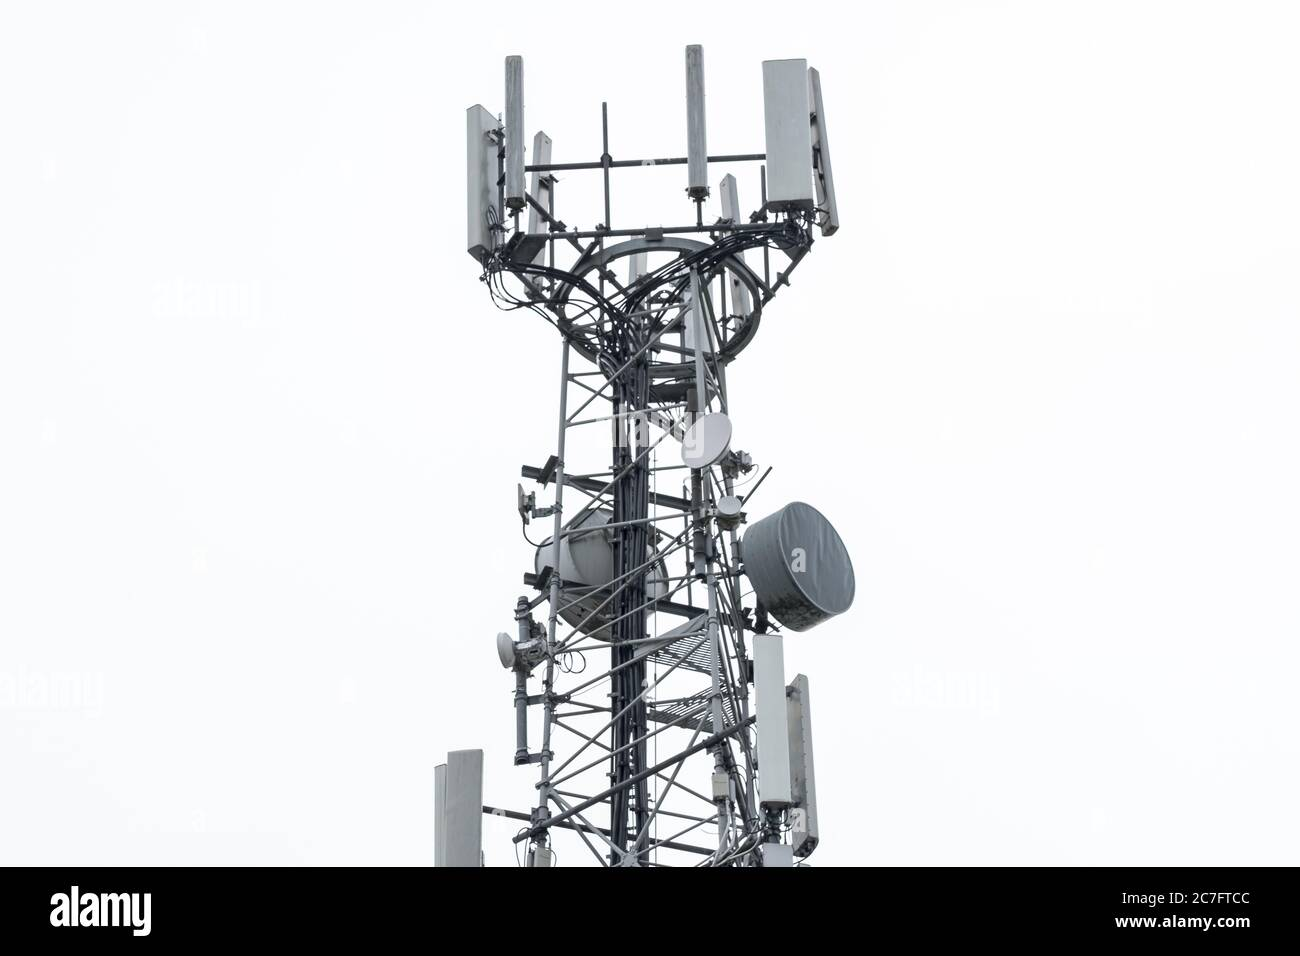ba: (516, 513, 672, 657), (724, 503, 867, 633), (678, 400, 739, 484)
sa: (738, 35, 816, 237), (651, 52, 719, 233), (731, 625, 793, 809), (451, 99, 513, 257), (425, 732, 489, 875), (748, 617, 789, 806), (504, 48, 545, 233)
